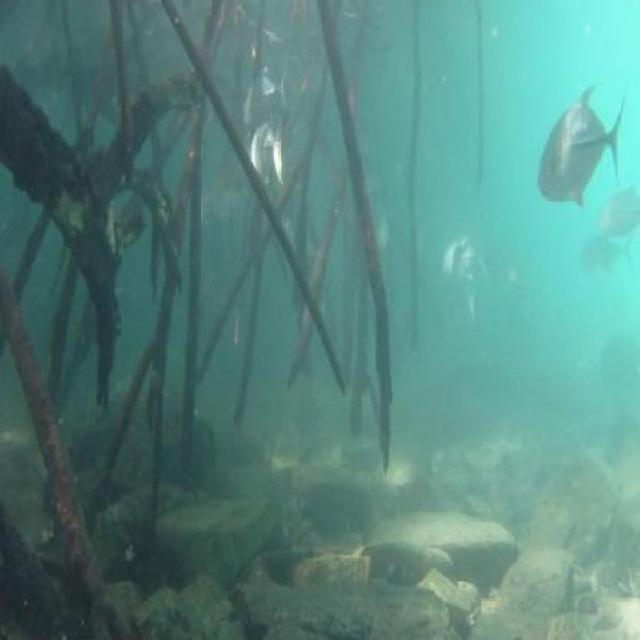Caranx_sexfasciatus_juvenile: (534, 68, 623, 212), (242, 123, 292, 211), (435, 222, 480, 307), (234, 64, 286, 136), (574, 230, 634, 285), (595, 182, 640, 250)
